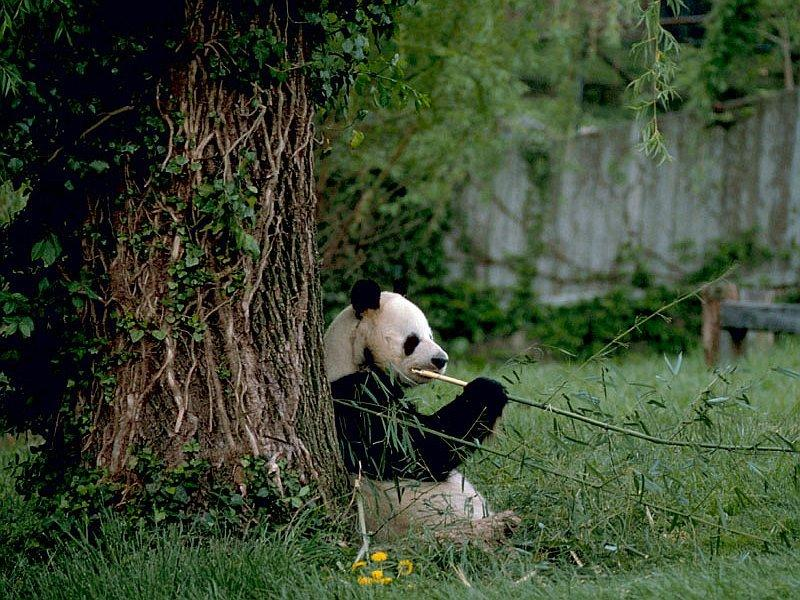panda: (325, 280, 511, 560)
